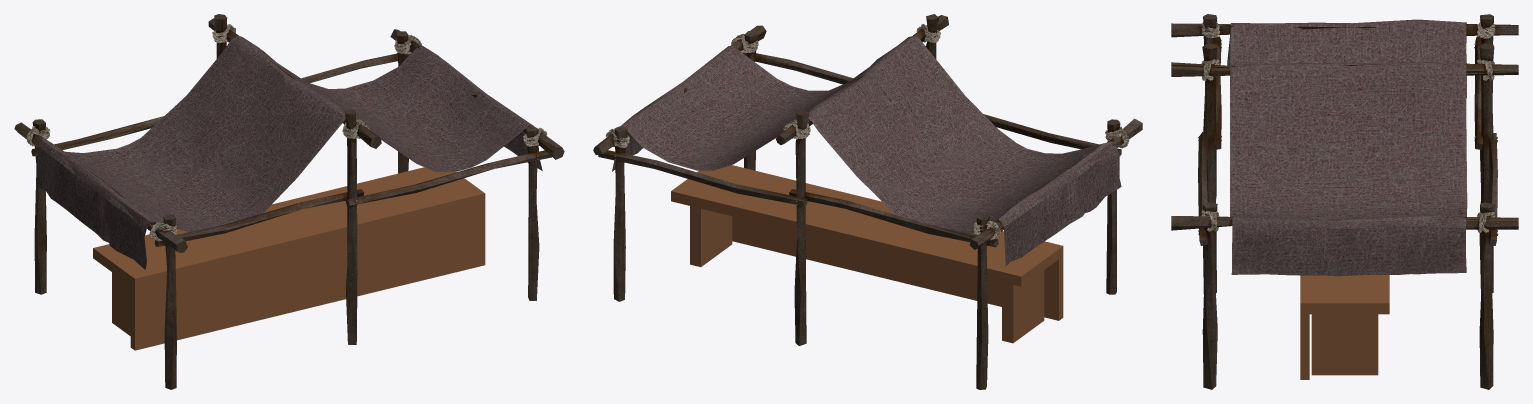
File: bazaar-stall.glb
3 views of the same model, side by side, from view 1: azimuth 30°, elevation 25°; view 2: azimuth 150°, elevation 25°; view 3: azimuth 270°, elevation 25° (orthographic). The views are drawn at different scales.
Visible parts, largest first — view 1: 3D_stell_3, market_counter_front, market_counter_top, market_counter_leg; view 2: 3D_stell_3, market_counter_top, market_counter_front, market_counter_leg, market_counter_leg.001; view 3: 3D_stell_3, market_counter_leg.001, market_counter_top, market_counter_front.
Part boxes in pixels (box(x1,y1,x2,y2)): 3D_stell_3: box(14, 14, 564, 389); market_counter_front: box(130, 201, 485, 350); market_counter_top: box(93, 167, 485, 288); market_counter_leg: box(112, 272, 130, 335); 3D_stell_3: box(593, 14, 1142, 389); market_counter_top: box(671, 165, 1063, 286); market_counter_front: box(732, 216, 1063, 320); market_counter_leg: box(1002, 270, 1044, 343); market_counter_leg.001: box(690, 206, 732, 266); 3D_stell_3: box(1171, 14, 1518, 389); market_counter_leg.001: box(1311, 314, 1378, 375); market_counter_top: box(1300, 275, 1389, 314); market_counter_front: box(1300, 312, 1309, 379).
Bounding box in the file's own units: 5.79 × 3.19 × 4.08.
Materials: 2 (1 with a texture image).
